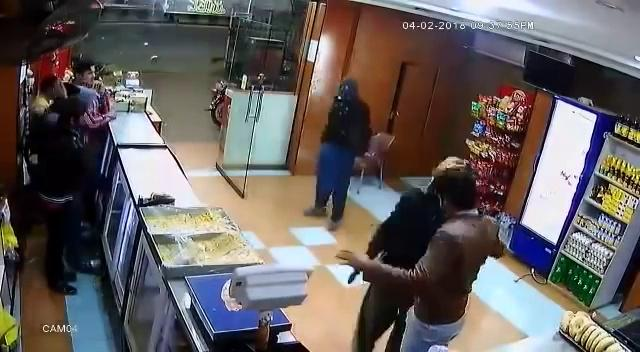weapon: (343, 265, 360, 288)
